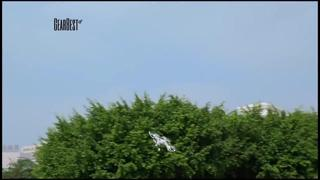UAV: (149, 131, 176, 152)
